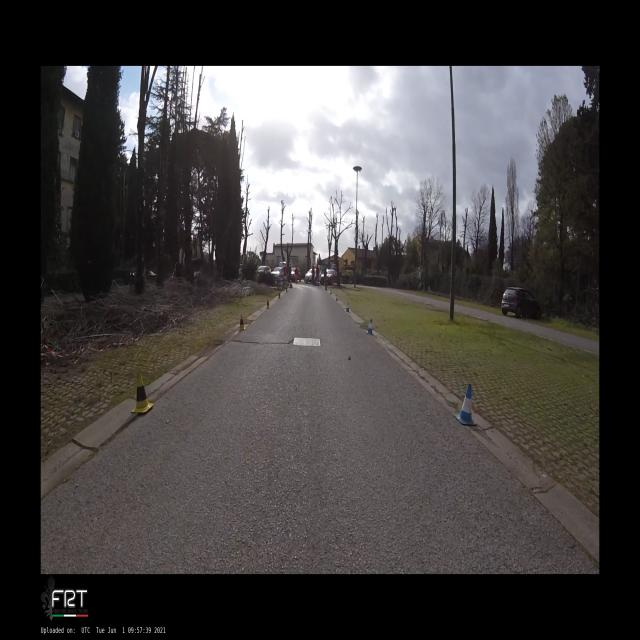blue_cone: (454, 384, 476, 426), (366, 318, 373, 335), (345, 302, 350, 313), (336, 294, 338, 301), (330, 290, 332, 294)
yellow_cone: (131, 371, 154, 413), (238, 314, 246, 330), (266, 299, 270, 309), (278, 293, 281, 299)
